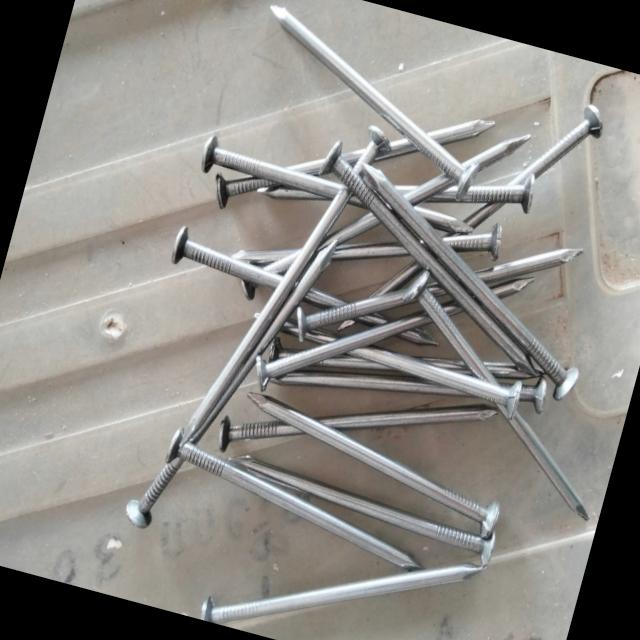3x10 nail: (269, 128, 640, 439), (95, 182, 355, 584), (219, 0, 533, 221), (190, 474, 523, 640)
